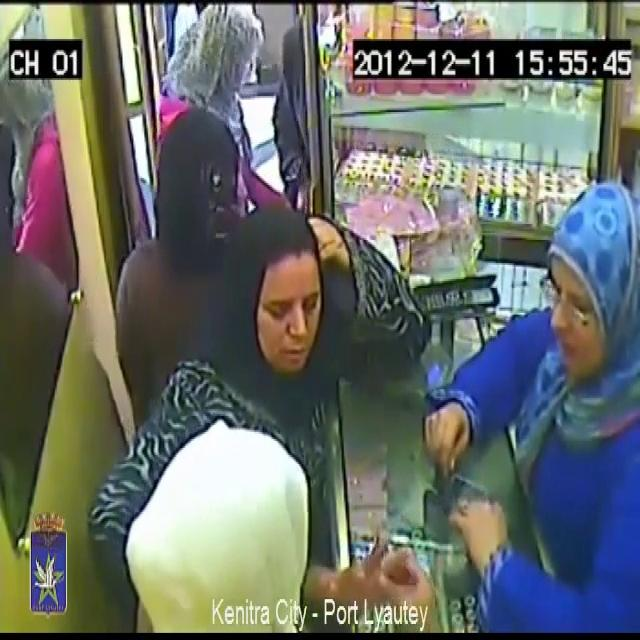Product: (368, 530, 391, 568)
normal: (464, 151, 640, 640), (226, 190, 350, 396), (148, 77, 242, 268), (199, 2, 293, 114)
shoplifting: (134, 410, 462, 640)
